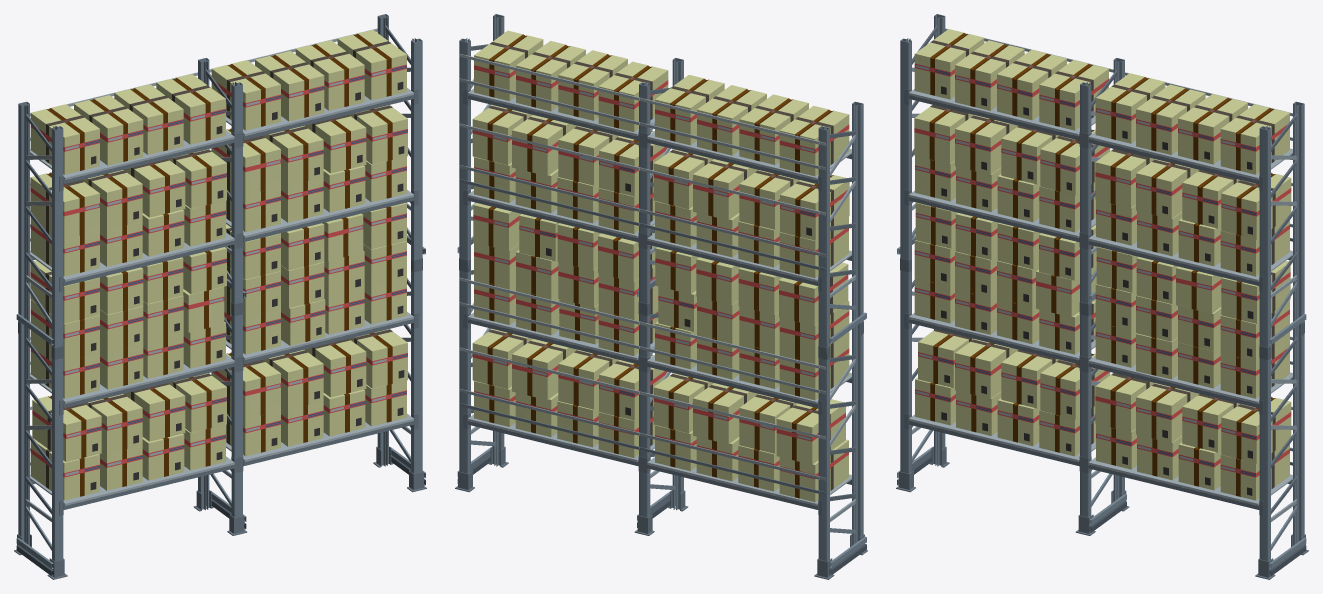
File: SM_ShelfBoxesx3_White_B.fbx
3 renders of one model, left to right at view 1: azimuth 30°, elevation 25°; view 2: azimuth 150°, elevation 25°; view 3: azimuth 330°, elevation 25°, orthographic.
Visible parts, largest first — view 1: SM_ShelfBoxesx3_White_B; view 2: SM_ShelfBoxesx3_White_B; view 3: SM_ShelfBoxesx3_White_B.
Part boxes in pixels (x1,y1,x2,y2): SM_ShelfBoxesx3_White_B: (14, 14, 426, 579); SM_ShelfBoxesx3_White_B: (455, 14, 867, 579); SM_ShelfBoxesx3_White_B: (896, 14, 1308, 579).
Bounding box in the file's own units: 646 × 739 × 118.
